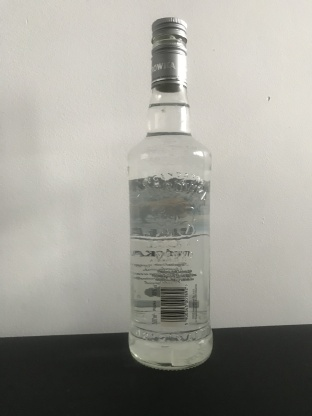nakretka: (149, 17, 188, 93)
